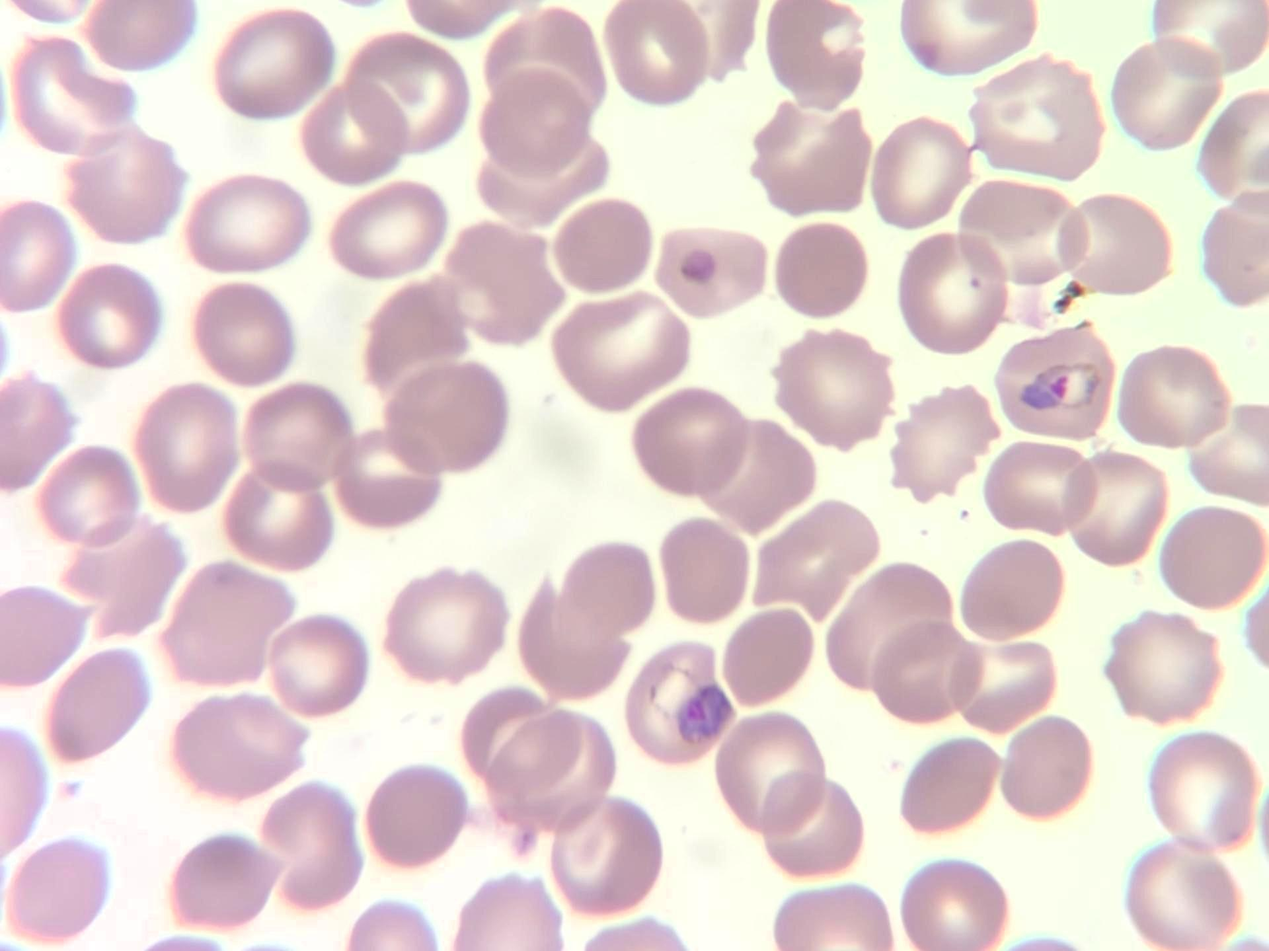Infected: (626, 633, 746, 777), (998, 318, 1118, 440)
Uninfected: (828, 562, 949, 694), (555, 292, 690, 406), (480, 710, 608, 830), (972, 60, 1107, 170), (443, 221, 561, 345), (555, 787, 664, 919), (59, 512, 175, 636), (353, 29, 463, 158), (13, 38, 132, 157), (758, 95, 865, 227), (958, 177, 1094, 280), (1099, 613, 1221, 727), (163, 567, 282, 683), (258, 776, 364, 905), (137, 386, 239, 517), (66, 133, 182, 248), (174, 692, 301, 796), (780, 333, 890, 453), (383, 571, 502, 681), (388, 362, 501, 477), (894, 230, 999, 353), (1110, 43, 1225, 155), (1126, 833, 1235, 951), (890, 382, 994, 505), (1154, 728, 1259, 849), (1055, 190, 1172, 298), (716, 719, 821, 836), (762, 501, 864, 621), (634, 380, 742, 493), (44, 648, 150, 763), (1064, 441, 1162, 565), (487, 12, 602, 117), (703, 419, 814, 527), (646, 221, 767, 320), (467, 684, 583, 787), (599, 0, 706, 110), (245, 384, 355, 490), (520, 585, 621, 699), (300, 78, 410, 182), (218, 16, 330, 118), (773, 1, 874, 114), (1119, 349, 1232, 449), (480, 140, 605, 229), (963, 540, 1071, 643), (167, 829, 276, 931), (328, 430, 438, 531), (872, 120, 969, 234), (220, 459, 325, 564), (335, 181, 446, 279), (187, 173, 301, 268), (366, 281, 463, 392), (48, 263, 154, 364), (480, 67, 579, 173), (557, 538, 649, 652), (764, 770, 861, 878), (35, 446, 135, 550), (663, 512, 752, 628), (269, 618, 372, 718), (991, 439, 1094, 539), (1168, 512, 1269, 612), (879, 626, 980, 725), (943, 640, 1056, 727), (1005, 712, 1090, 827), (194, 278, 289, 380), (776, 221, 871, 321), (901, 741, 999, 833), (368, 772, 460, 869), (901, 862, 1000, 951), (725, 609, 811, 711), (553, 195, 642, 292)
